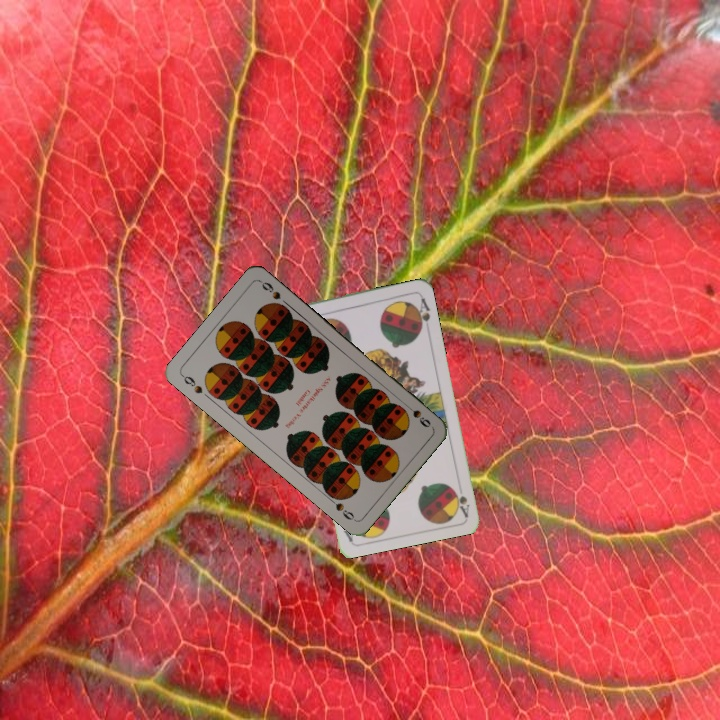S9: (401, 399, 433, 430), (178, 371, 205, 396)
SA: (449, 484, 472, 518)
